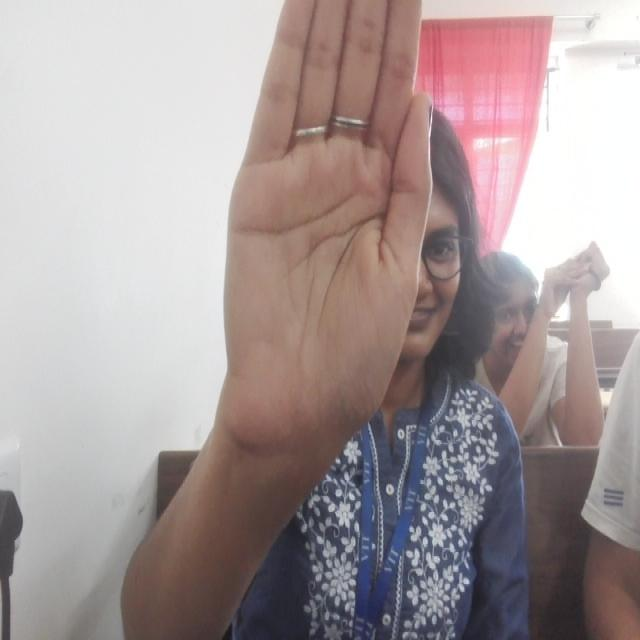hello: (220, 0, 434, 447)
